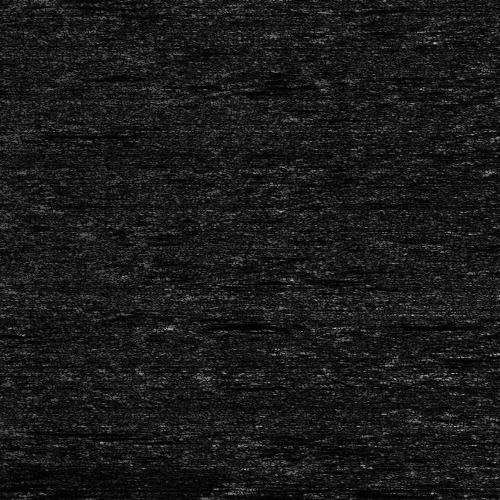object: (152, 319, 205, 330), (0, 131, 78, 138), (1, 427, 74, 434), (331, 323, 362, 328), (201, 494, 232, 497)
shadow: (179, 319, 294, 330), (37, 427, 118, 434), (32, 131, 105, 138), (216, 494, 309, 497), (347, 323, 379, 328)
